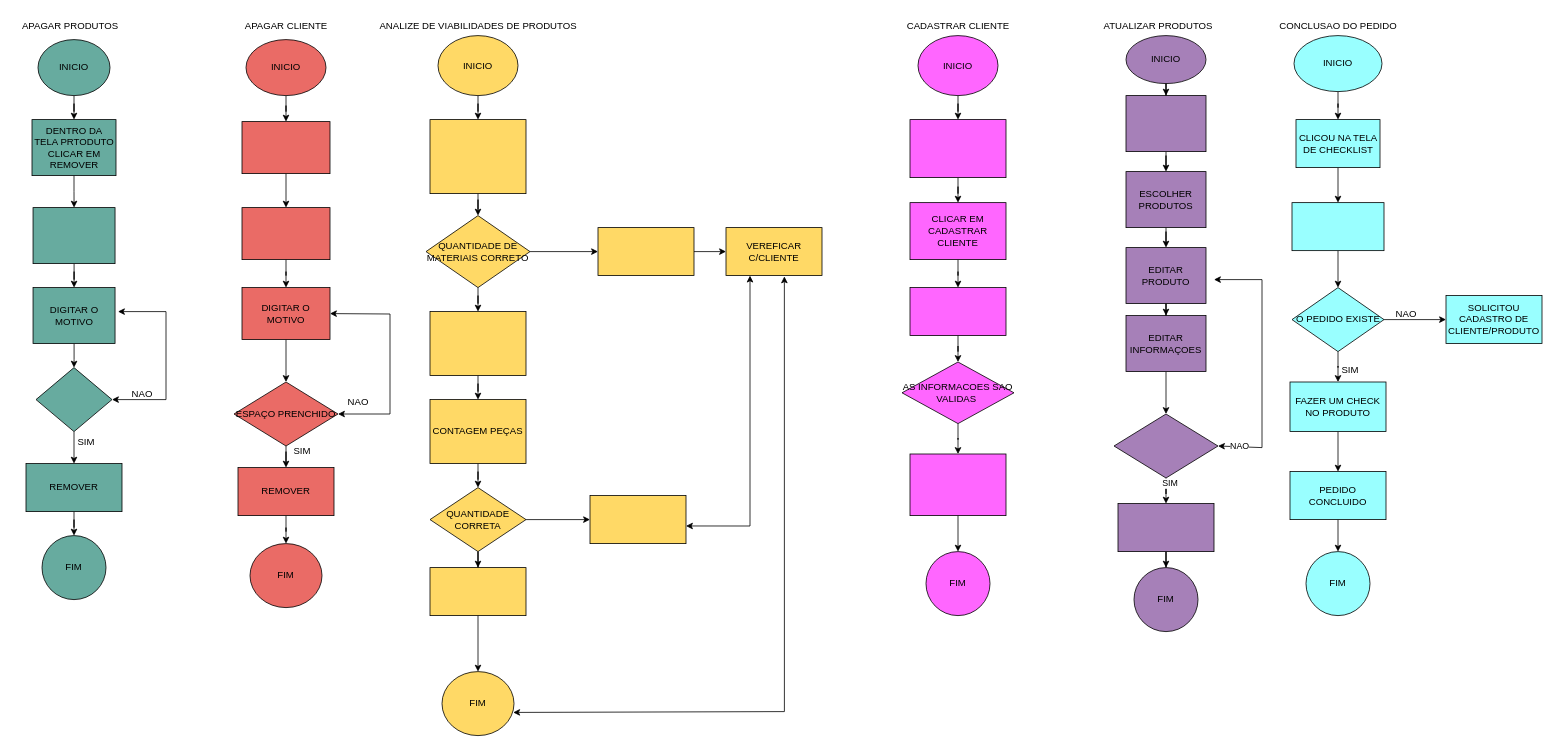
Some shapes in this 1556 by 750 pixel diagram are drawn without their labels. Here are the shapes that lost their labels. From the top down, the centre of each, then its label:
the point at 1165,123: CLICAR EM PRODUTOS
the point at 285,147: DENTRO DA TELA CLIENTE CLICAR EM REMOVER
the point at 477,156: APOS CADASTRO DO LOTE/PRODUCAO VEREFICAR INSUMES
the point at 957,148: CLICAR NA TELA DE CLIENTES
the point at 73,235: PARECER NA TELA ESPAÇO PARA DIGITAR MAIS
the point at 285,233: APARECER NA TELA ESPAÇO PARA DIGITAR MOTIVO
the point at 1337,226: PESQUISOU O PEDIDO
the point at 645,251: INDICADOR DE FALTA DE MATERIAIS APARECE
the point at 957,311: PREENCHER AS INFORMACAO NECESSARIAS
the point at 477,343: SEGUIR COM VIABILIDADE
the point at 73,399: ESPACO PRENCHIDO
the point at 1165,445: AS INFORMACOES EDITADAS SAO VALIDAS ?
the point at 957,484: CONFIRMAR CADASTRO
the point at 637,519: INDICADOR DE FALTA DE PEÇAS
the point at 1165,527: ATUALIZAR PRODUTO
the point at 477,591: SEGUIR C/PRODUÇAO
